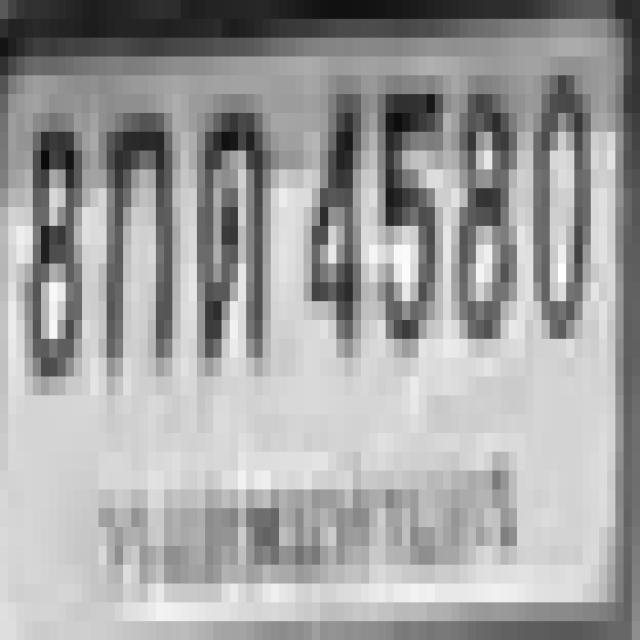0: (525, 75, 583, 320)
4: (295, 75, 361, 339)
5: (369, 94, 435, 339)
8: (16, 113, 90, 395), (443, 94, 509, 339)
A01: (90, 76, 181, 377)
A20: (180, 94, 271, 358)
